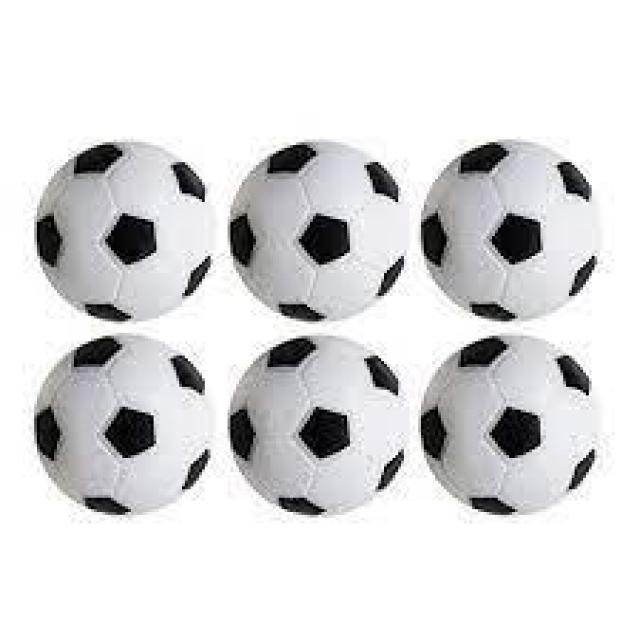Soccer Ball: (34, 134, 213, 324), (230, 330, 404, 520), (421, 336, 597, 518), (424, 142, 603, 319), (34, 336, 211, 514), (233, 142, 407, 322)
